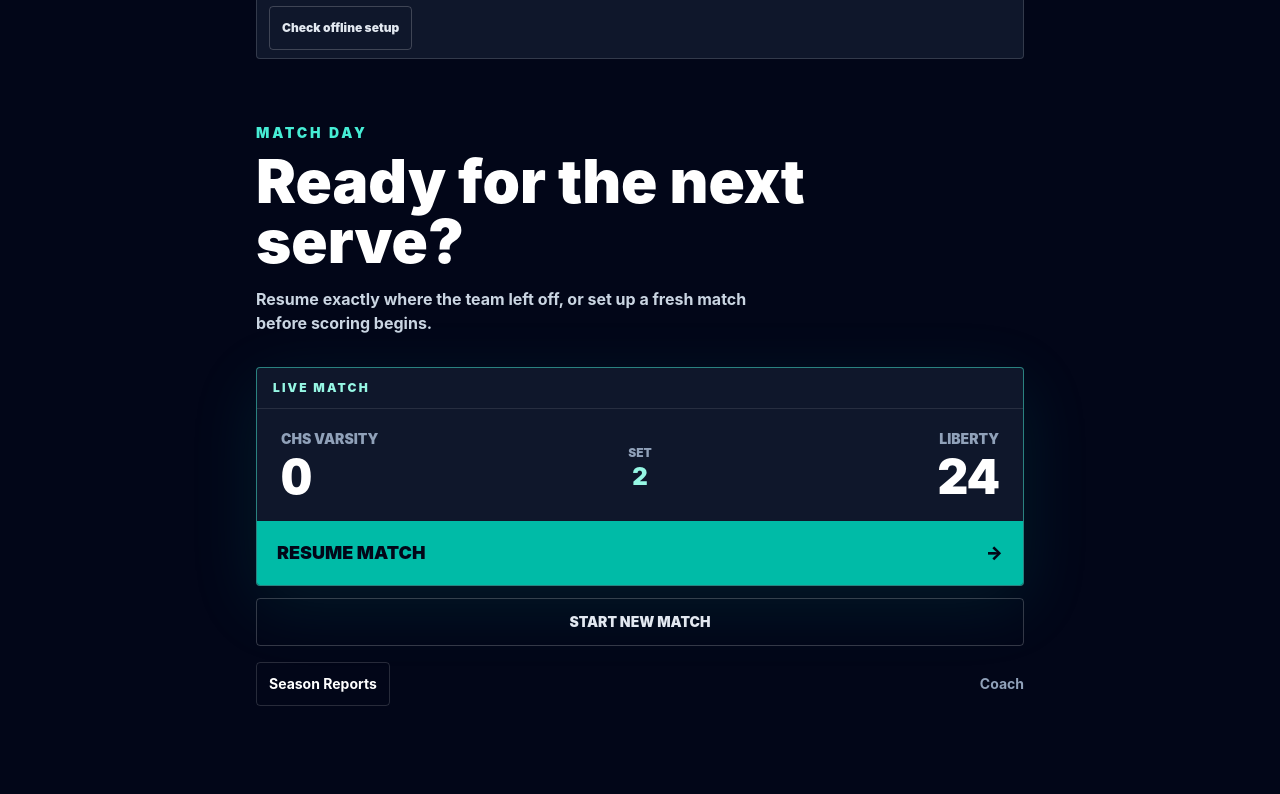
Test: CourtsideMatchbook match launch flow › records a fixed-two split as a Draw and shows it in season reports
The image size is (1280, 794).
(page scrolled)
Click the button "Resume Match →". click: (351, 552)
box: [257,521,1023,585]
(page scrolled)
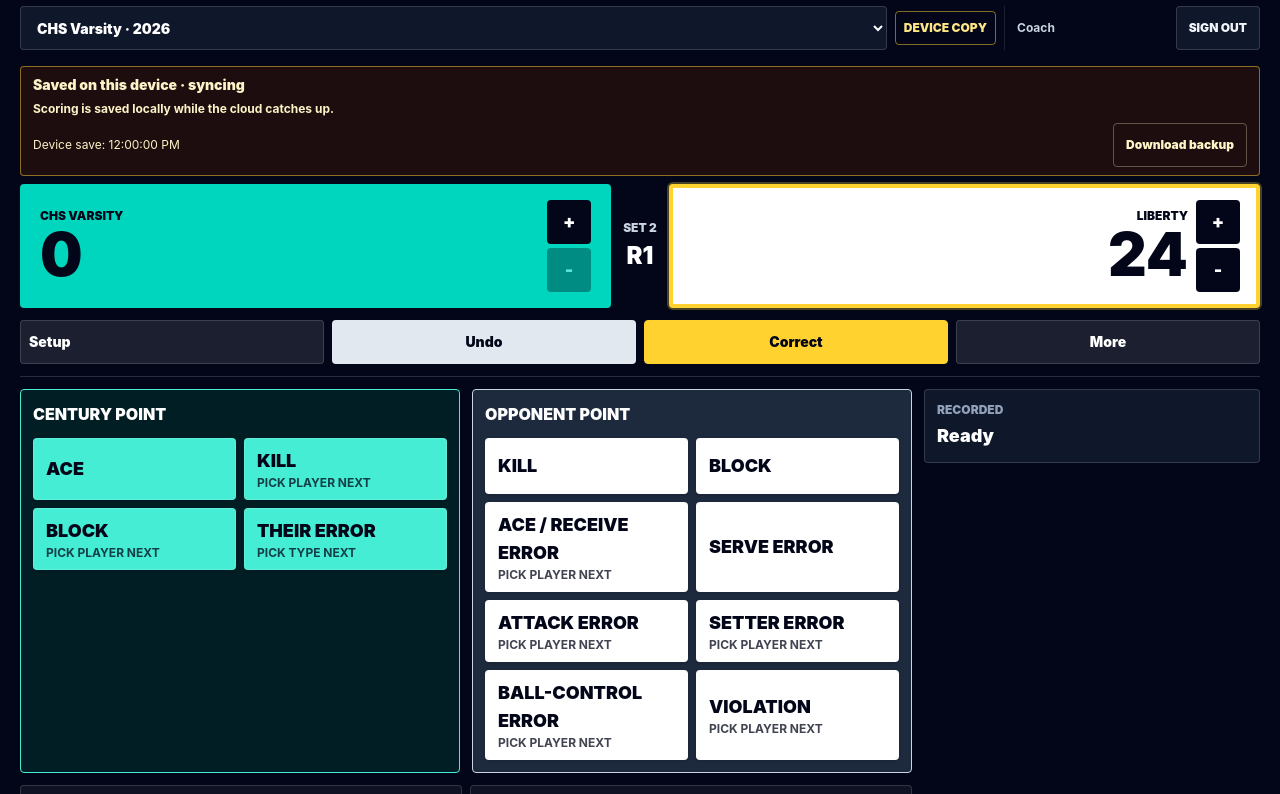
Click the button named "Add Liberty score". click: (1218, 222)
box: [1196,200,1240,244]
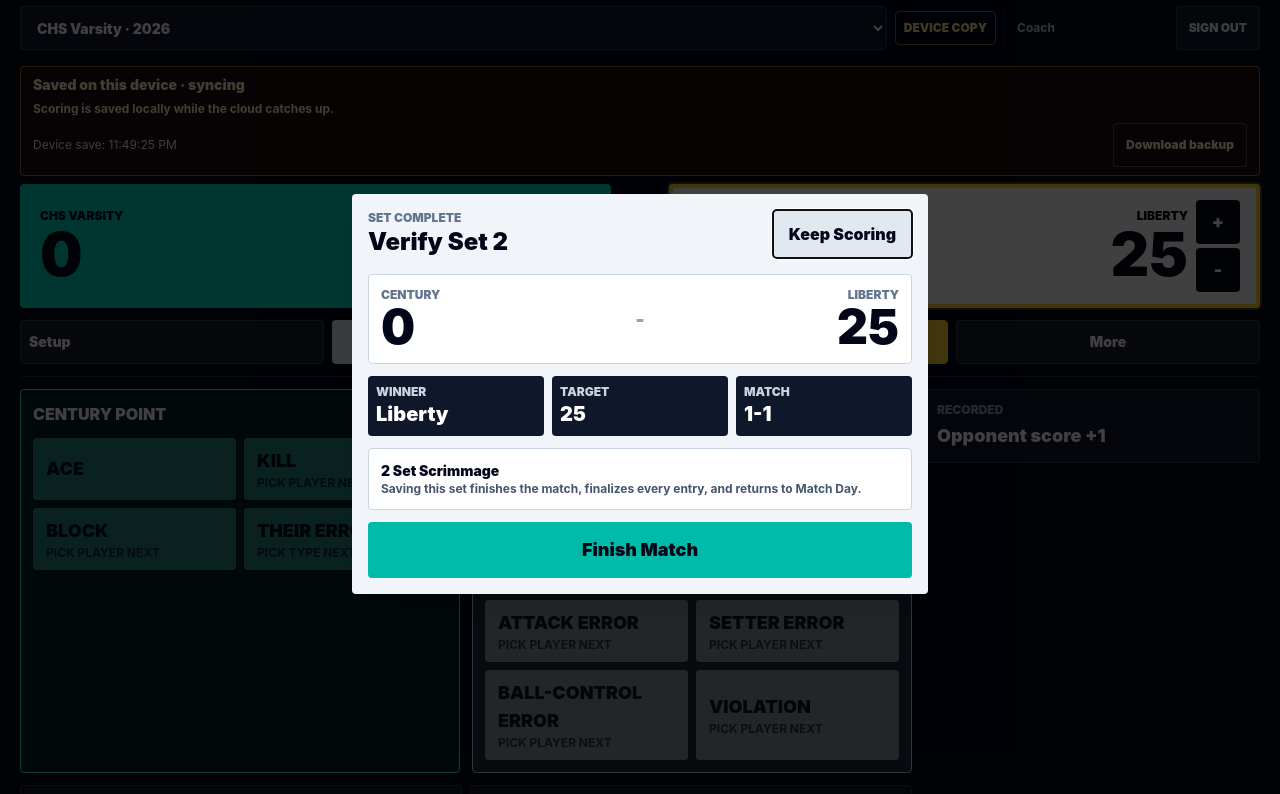
Click the button "Finish Match". click: (640, 550)
box: [368,522,912,578]
(page scrolled)
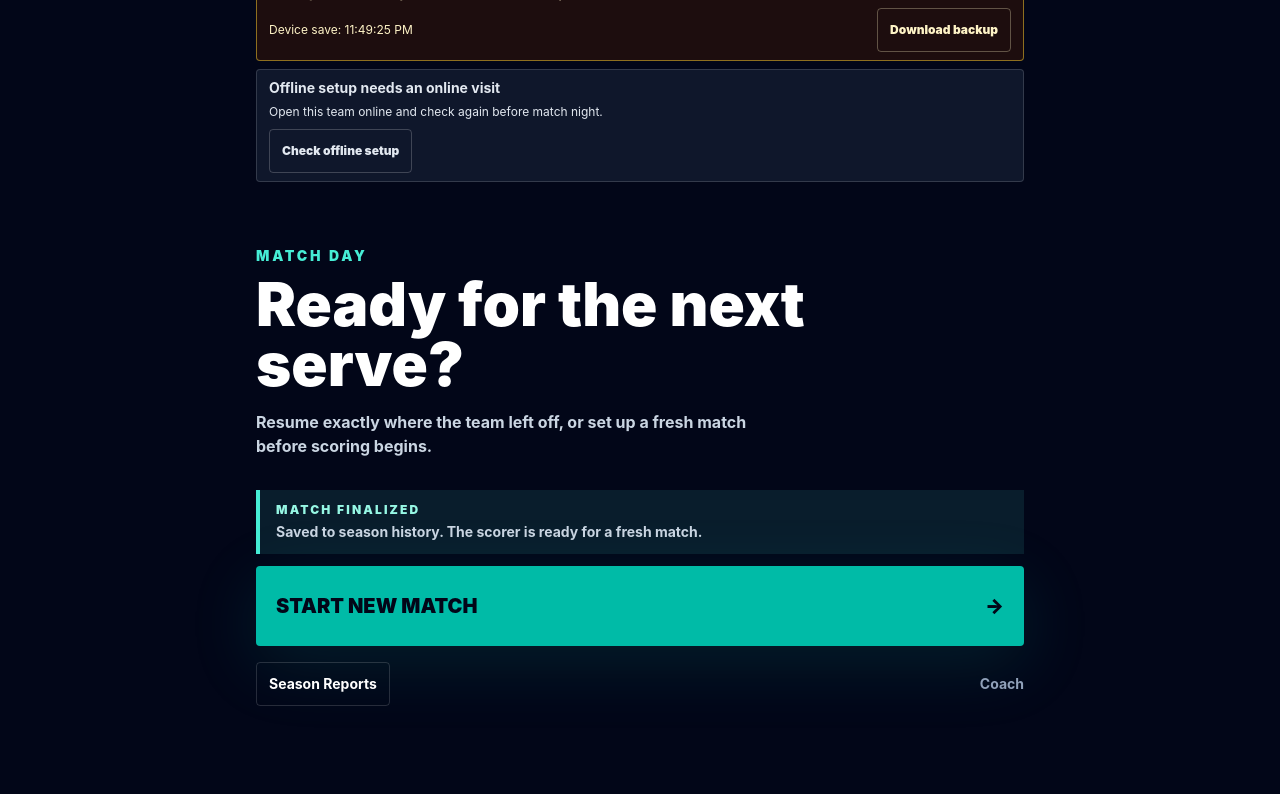
Click the button "Season Reports". click: (323, 684)
box: [256,662,390,706]
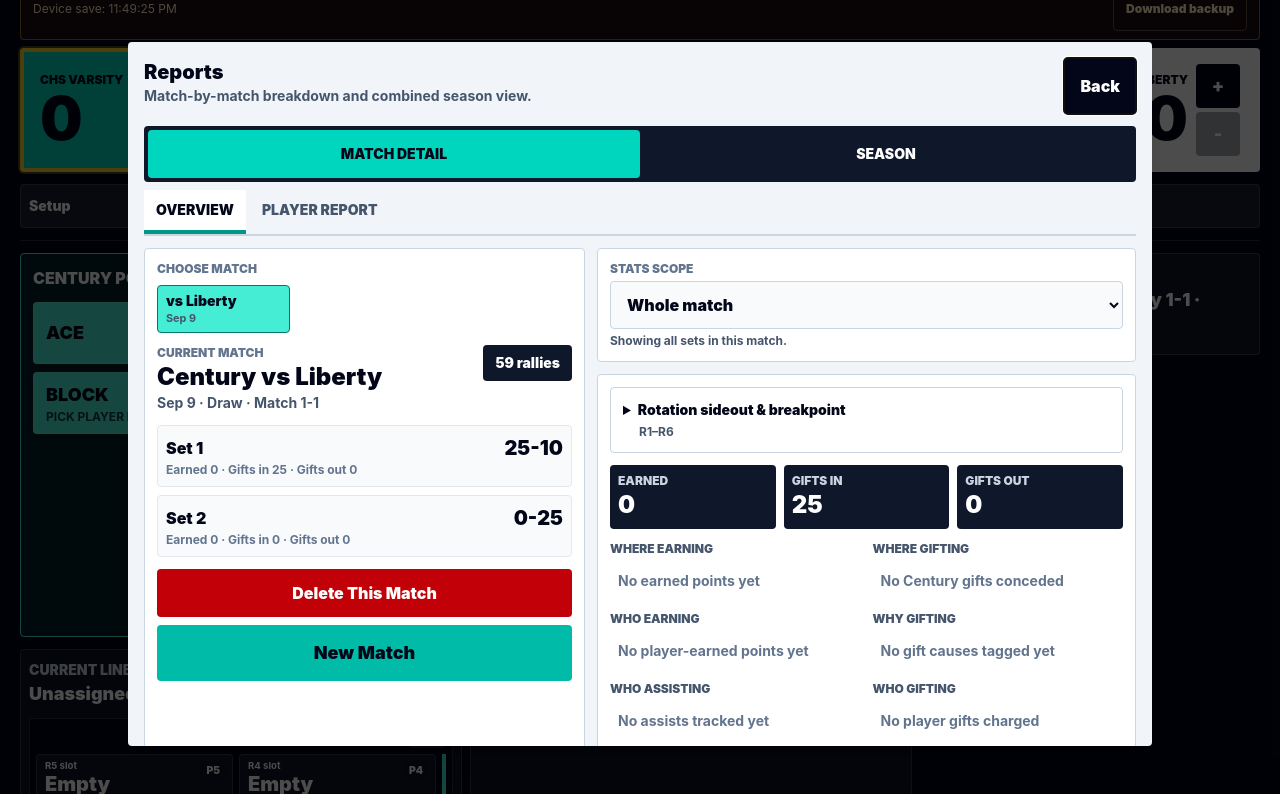
Check: the text "Sep 9 · Draw · Match 1-1" is shown, box [157,394,319,411]
